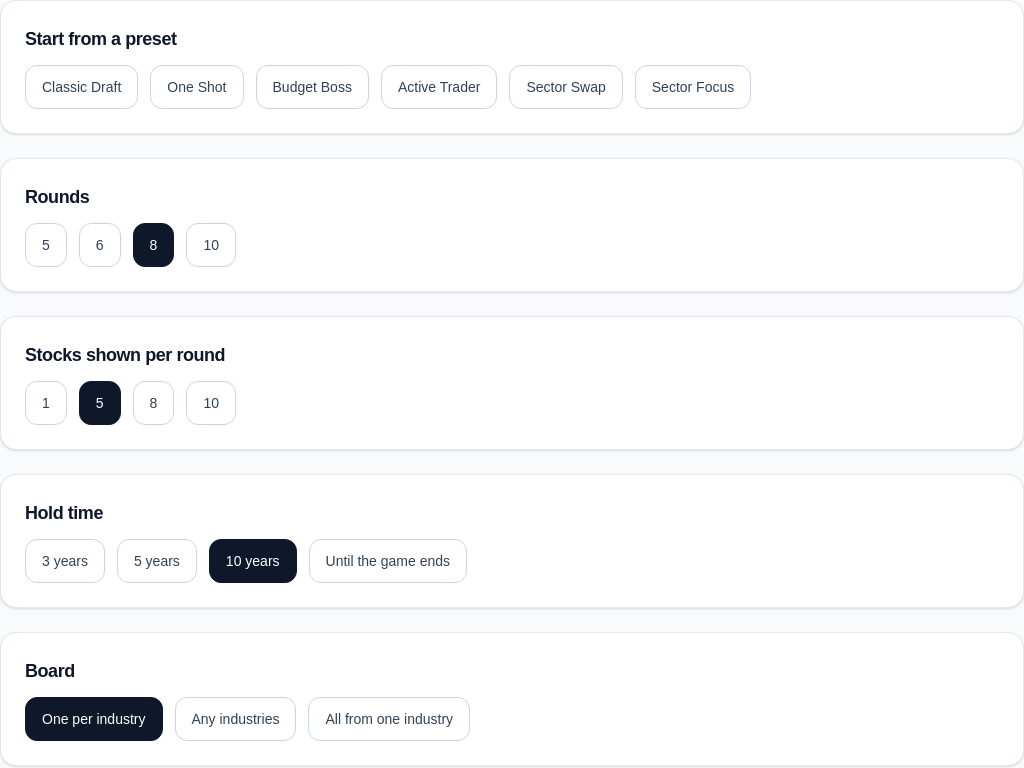
Test: ConfigForm › shows an impossible combination error and disables Start
The image size is (1024, 768).
Click the button "10" below "Stocks shown per round" at (211, 403), box top-left (186, 381), bottom-right (236, 425)
(page scrolled)
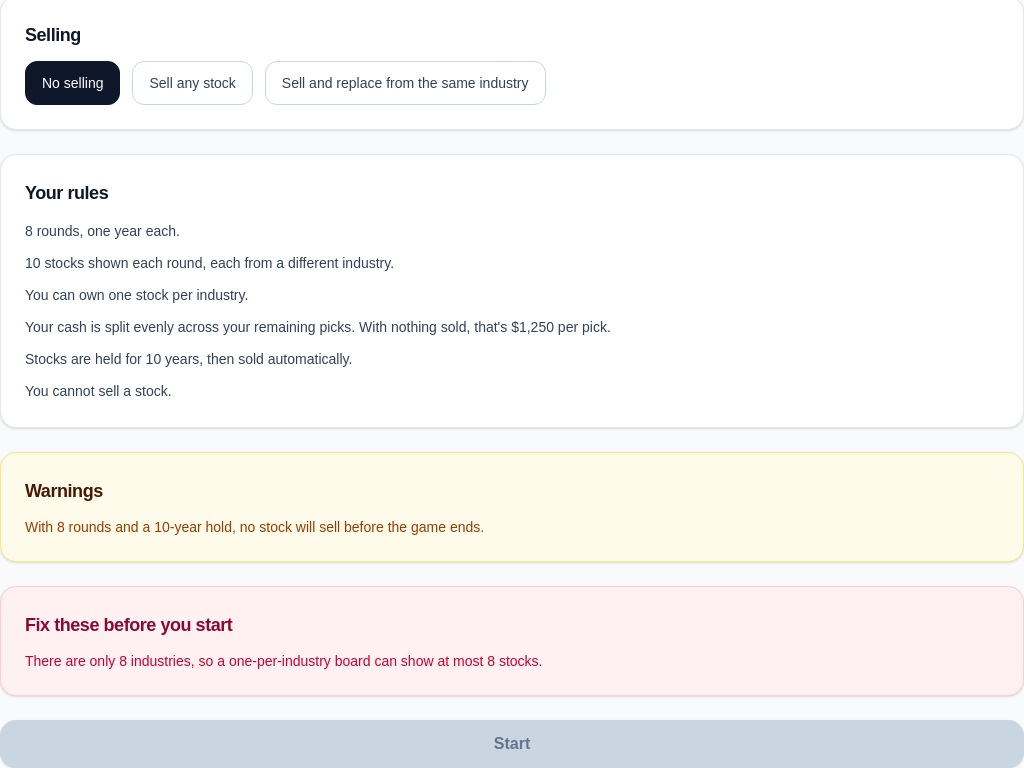
Result: the button "Start" is disabled at top-left (0, 720), bottom-right (1023, 767)
